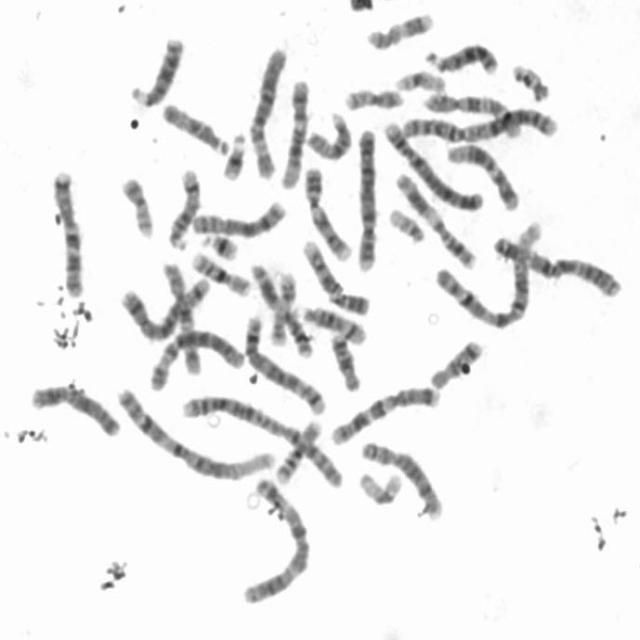A1: (110, 379, 278, 482), (428, 214, 545, 332)
A2: (175, 387, 348, 490), (391, 98, 563, 143)
A3: (236, 469, 314, 606), (487, 226, 625, 300)
B4: (379, 112, 487, 213), (351, 120, 381, 273)
B5: (238, 307, 329, 416), (116, 268, 212, 343)
C10: (419, 84, 525, 141), (156, 255, 204, 376)
C11: (389, 163, 480, 272), (245, 255, 316, 358)
C12: (441, 134, 522, 212), (274, 71, 312, 191)
C6: (144, 320, 247, 393), (243, 38, 290, 180)
C7: (325, 378, 443, 447), (46, 161, 88, 299)
C8: (356, 433, 446, 521), (186, 192, 289, 238)
C9: (297, 231, 373, 318), (298, 159, 355, 262)
D13: (124, 28, 186, 109), (420, 34, 501, 77)
D14: (162, 160, 204, 252), (292, 298, 370, 347)
D15: (156, 95, 232, 157), (301, 104, 354, 162)
E16: (271, 412, 325, 485), (186, 243, 253, 299)
E17: (362, 3, 438, 51), (266, 264, 298, 348)
E18: (424, 333, 486, 390), (325, 324, 364, 393)
F19: (353, 462, 406, 508), (390, 62, 449, 94)
F20: (115, 167, 157, 240), (339, 79, 407, 112)
G21: (216, 124, 249, 182), (198, 225, 241, 261)
G22: (506, 56, 553, 102), (383, 200, 429, 246)
X: (25, 376, 124, 438)
